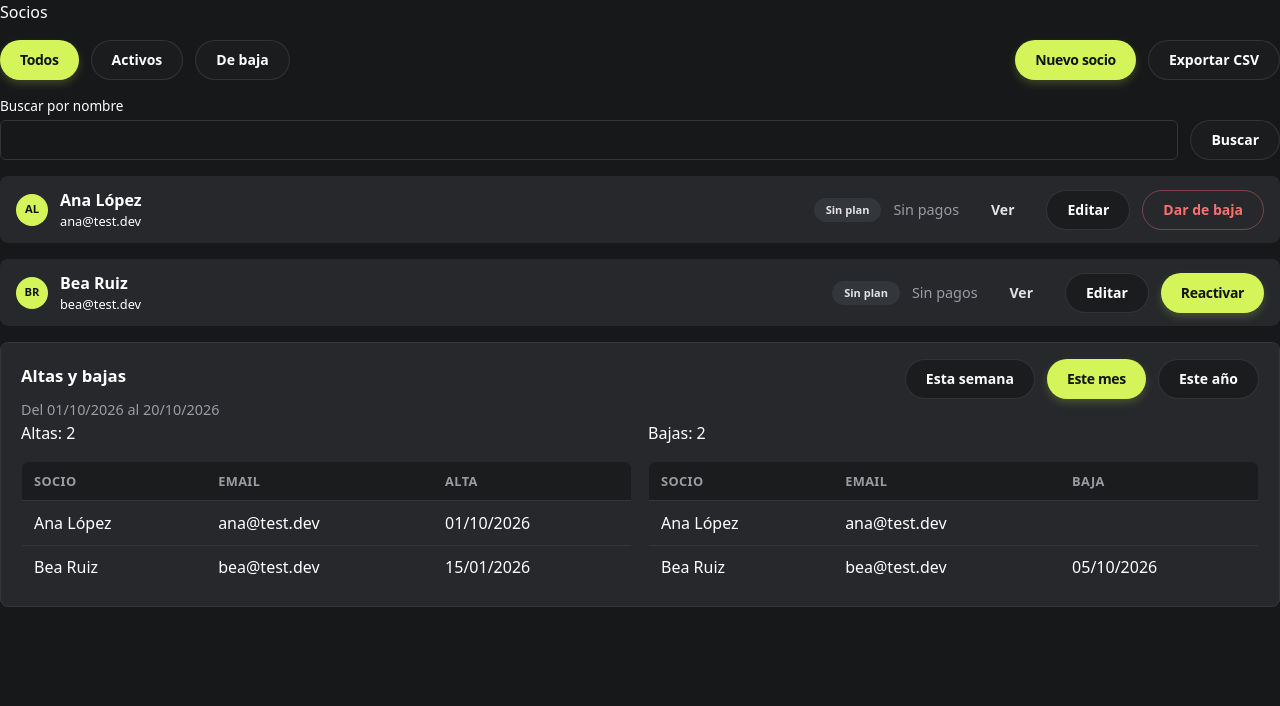
Test: AdminMembersPage › abre la ficha del socio con sus membresías y reservas
Expected: the text "Ana López" is shown, [60,189,142,211]
What coordinates should you click on to do the following:
click the 1st button "Ver"
I would click on:
 (1003, 210)
Its box is [971,190,1034,230].
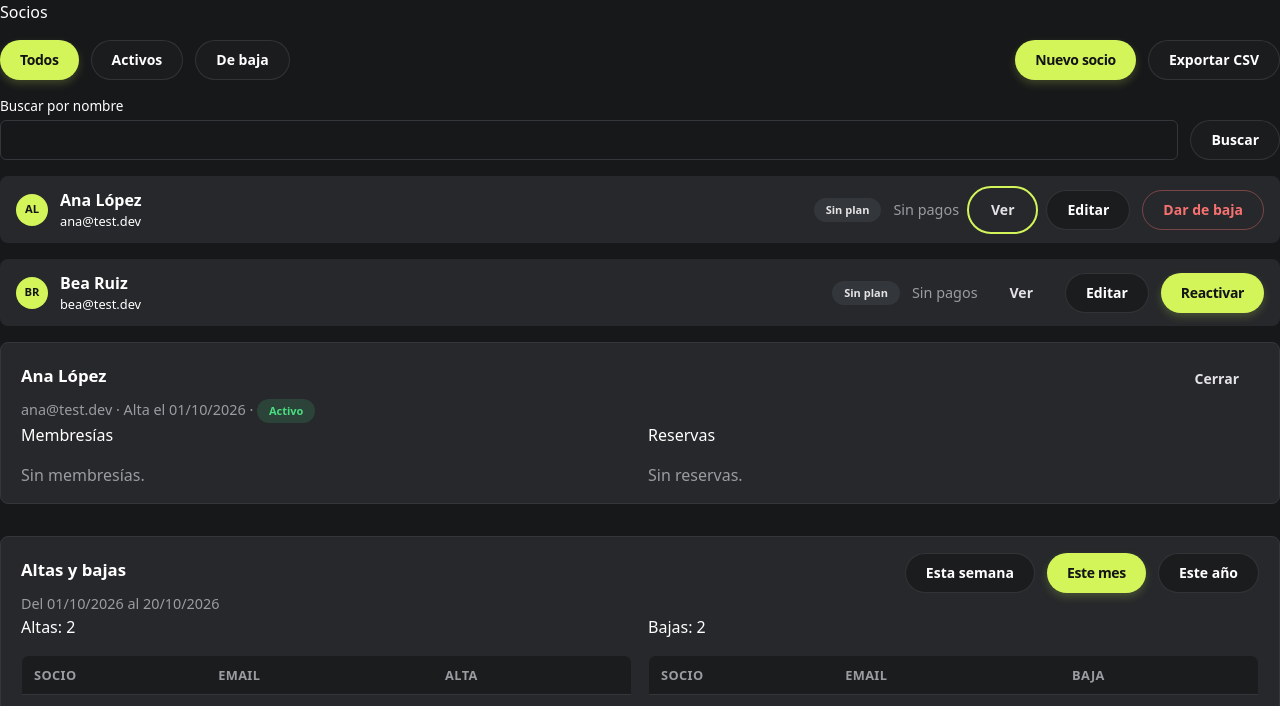
Expected: the element named "Ficha de Ana López" is shown, [0,342,1279,504]
